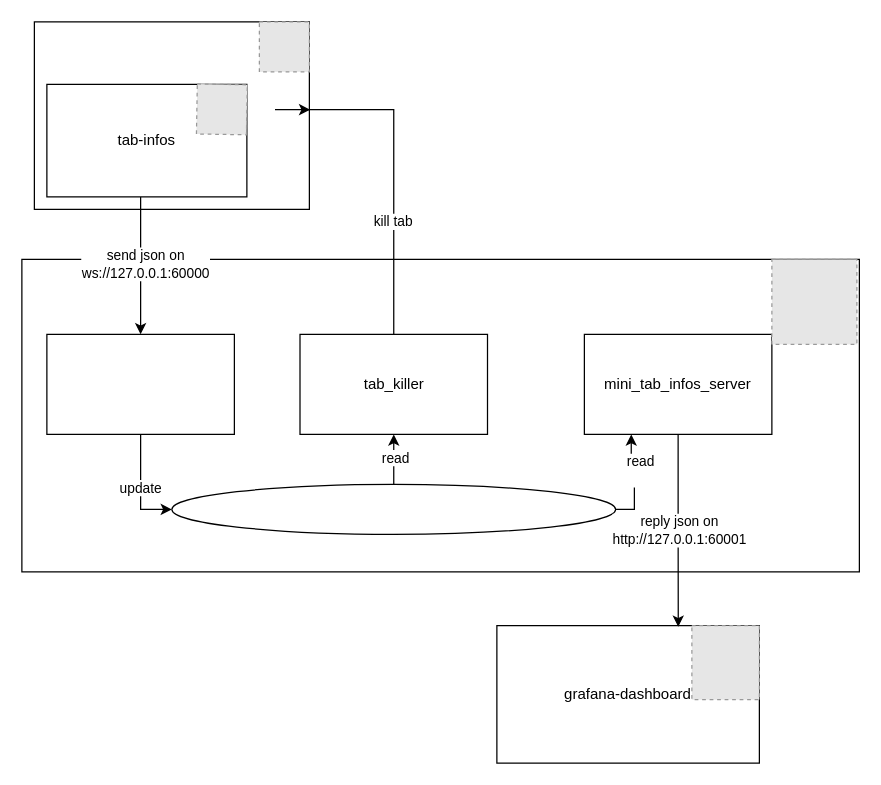
This 881x785 diagram has some shape labels left out. Grey dashed boxes stand in for pictures. The centre of each missing label's shape, as x and y in pixels:
"state" goes at pixel 393 508.
"tab_infos_listener" goes at pixel 140 383.
